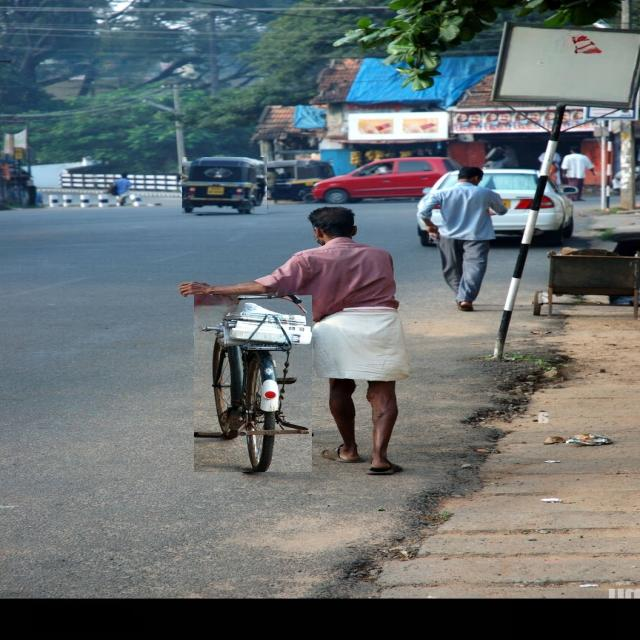autorickshaw: (182, 157, 266, 214)
bicycle: (194, 295, 312, 472)
car: (310, 158, 457, 204)
